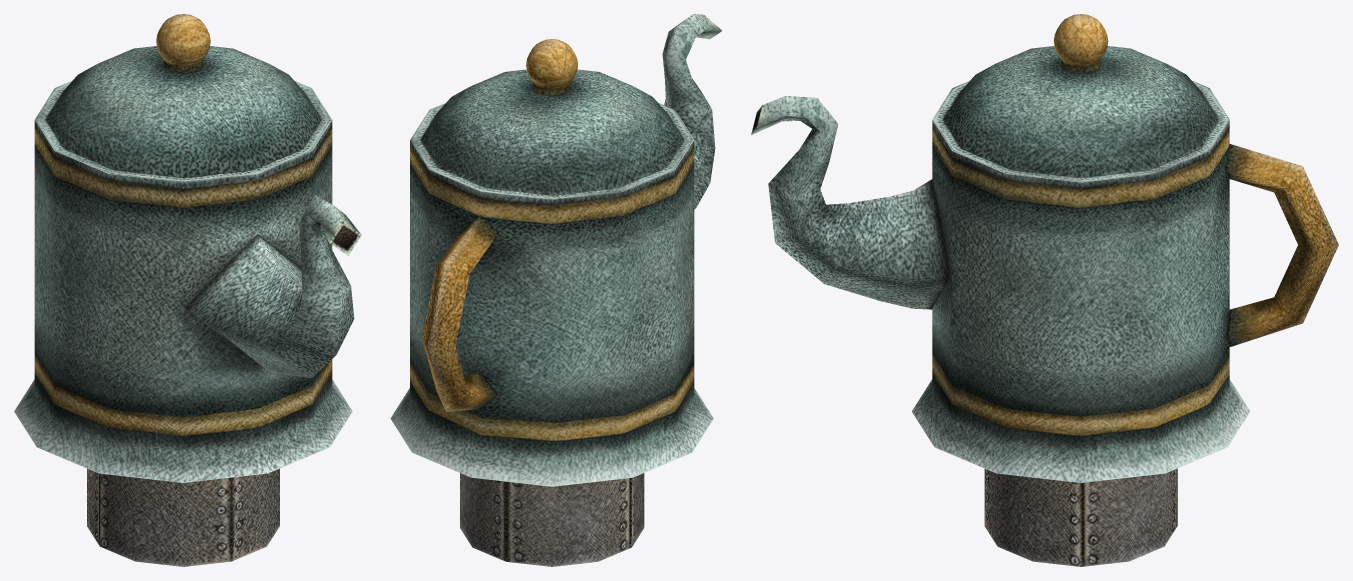
The model's file is HEAD_TEAPOD.fbx.
The picture shows the model from 3 angles, left to right: view 1: azimuth 30°, elevation 25°; view 2: azimuth 150°, elevation 25°; view 3: azimuth 270°, elevation 25°; orthographic projection. The views are drawn at different scales.
Parts seen in each view (by area): view 1: HEAD_TEAPOD; view 2: HEAD_TEAPOD; view 3: HEAD_TEAPOD.
Part boxes in pixels (left/top/right/bottom): HEAD_TEAPOD: left=14, top=14, right=361, bottom=566; HEAD_TEAPOD: left=390, top=14, right=721, bottom=566; HEAD_TEAPOD: left=751, top=14, right=1338, bottom=566.
Size of the model in its own units: 0.00991 by 0.0165 by 0.0172.
